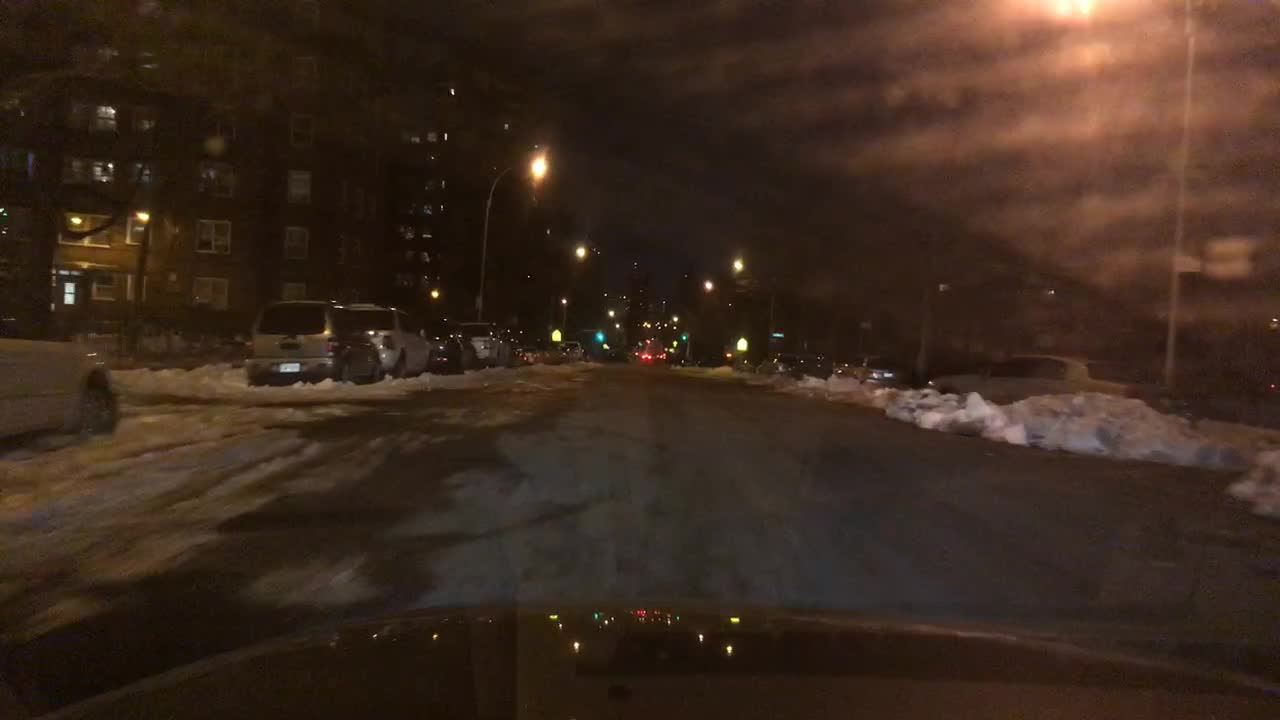car: (0, 303, 118, 443), (242, 295, 380, 388), (925, 351, 1135, 401), (337, 300, 433, 381), (421, 316, 478, 369), (829, 352, 900, 386), (466, 327, 517, 365), (755, 351, 801, 376), (517, 340, 542, 364), (726, 351, 753, 372), (561, 337, 583, 357), (546, 345, 565, 361), (638, 348, 655, 364)
traffic sign: (1176, 260, 1201, 275)
